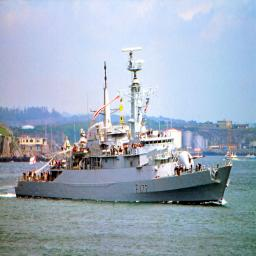Fragata: (14, 44, 234, 207)
